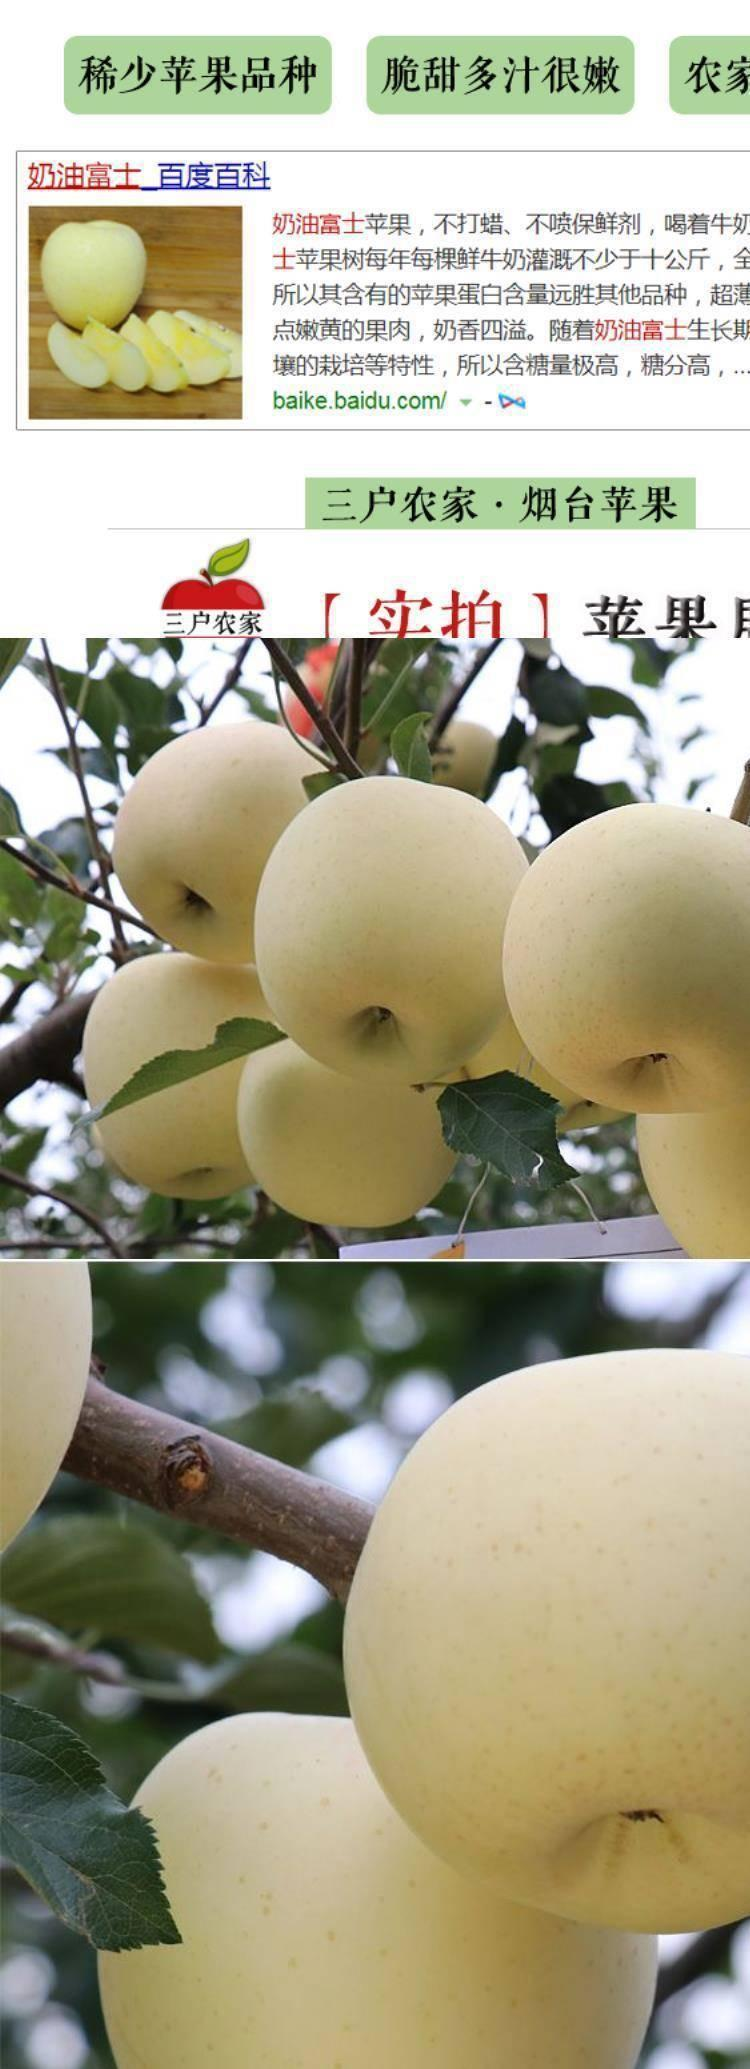apple: (349, 1343, 750, 1899), (254, 773, 527, 1090), (498, 802, 745, 1114), (116, 720, 322, 975)
